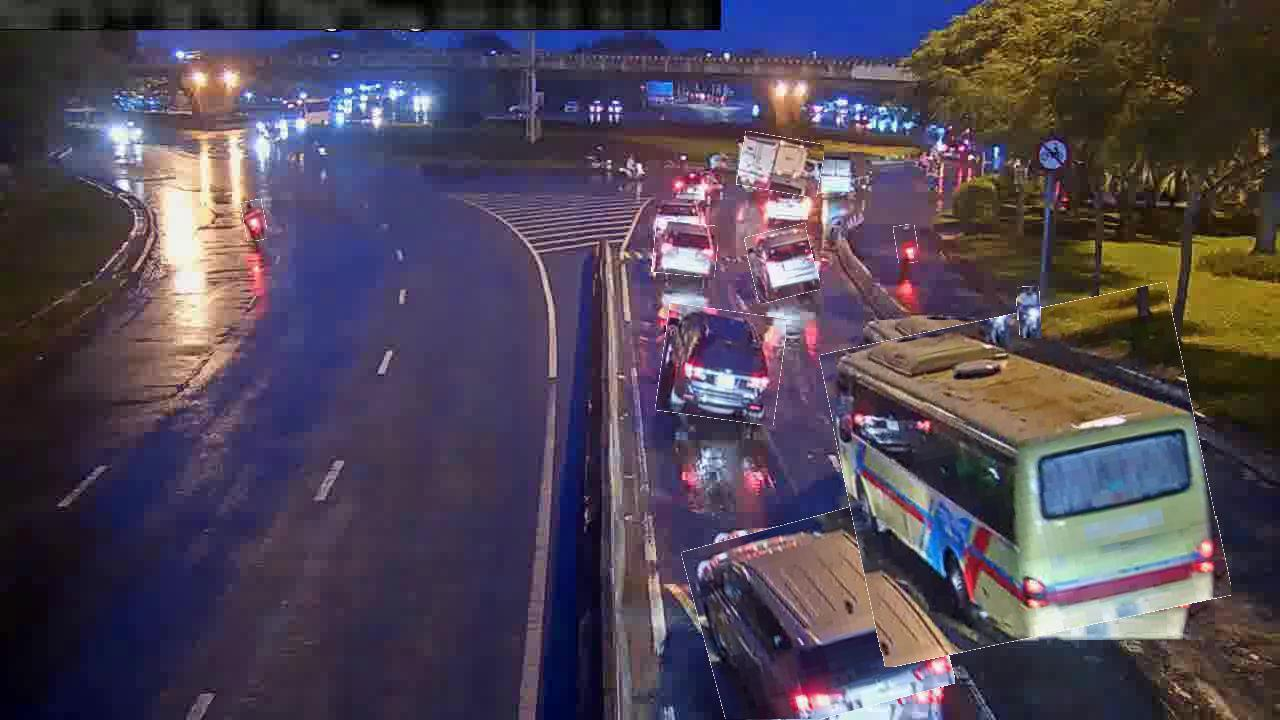14: (834, 298, 1218, 652)
8: (738, 135, 823, 195)
container: (692, 505, 946, 719), (659, 307, 784, 423), (748, 227, 818, 301), (653, 222, 718, 277)
motorbike: (1018, 287, 1042, 339), (242, 200, 267, 242), (895, 224, 918, 264)
